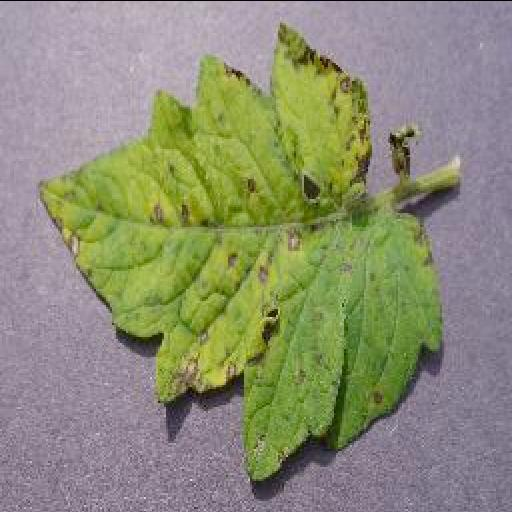disease_tomato: (40, 26, 440, 484)
